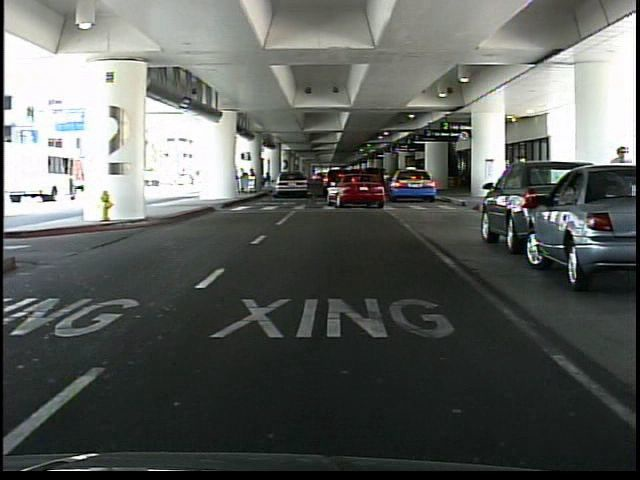person: (608, 142, 638, 242)
